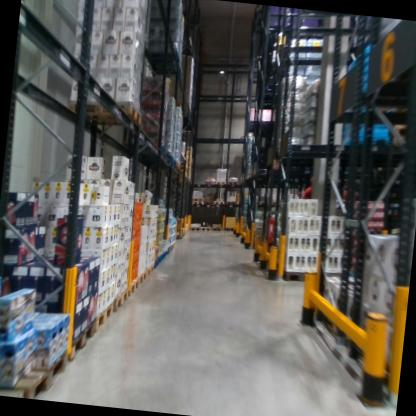pallet: (0, 343, 70, 400), (62, 92, 145, 125), (63, 314, 96, 367), (136, 47, 184, 76), (342, 125, 390, 151), (386, 113, 416, 150), (94, 298, 114, 336), (112, 285, 129, 312), (0, 385, 26, 397), (128, 275, 140, 297), (135, 267, 148, 287), (185, 224, 201, 234), (210, 221, 223, 233), (144, 262, 154, 277), (199, 222, 212, 232), (202, 178, 216, 187), (224, 198, 236, 208), (226, 178, 239, 187), (190, 195, 204, 203), (214, 177, 226, 186), (204, 198, 216, 207), (191, 199, 204, 207), (214, 201, 225, 207)
